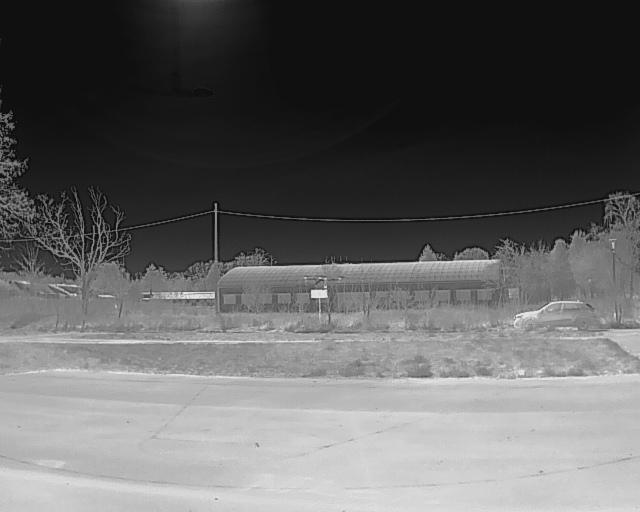drone: (300, 265, 354, 295)
